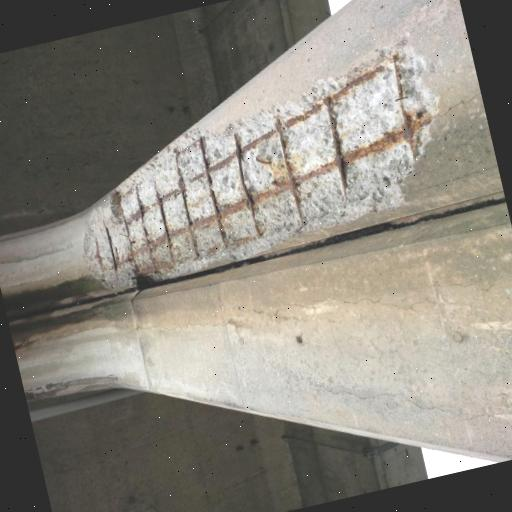spalling: (82, 39, 436, 284)
